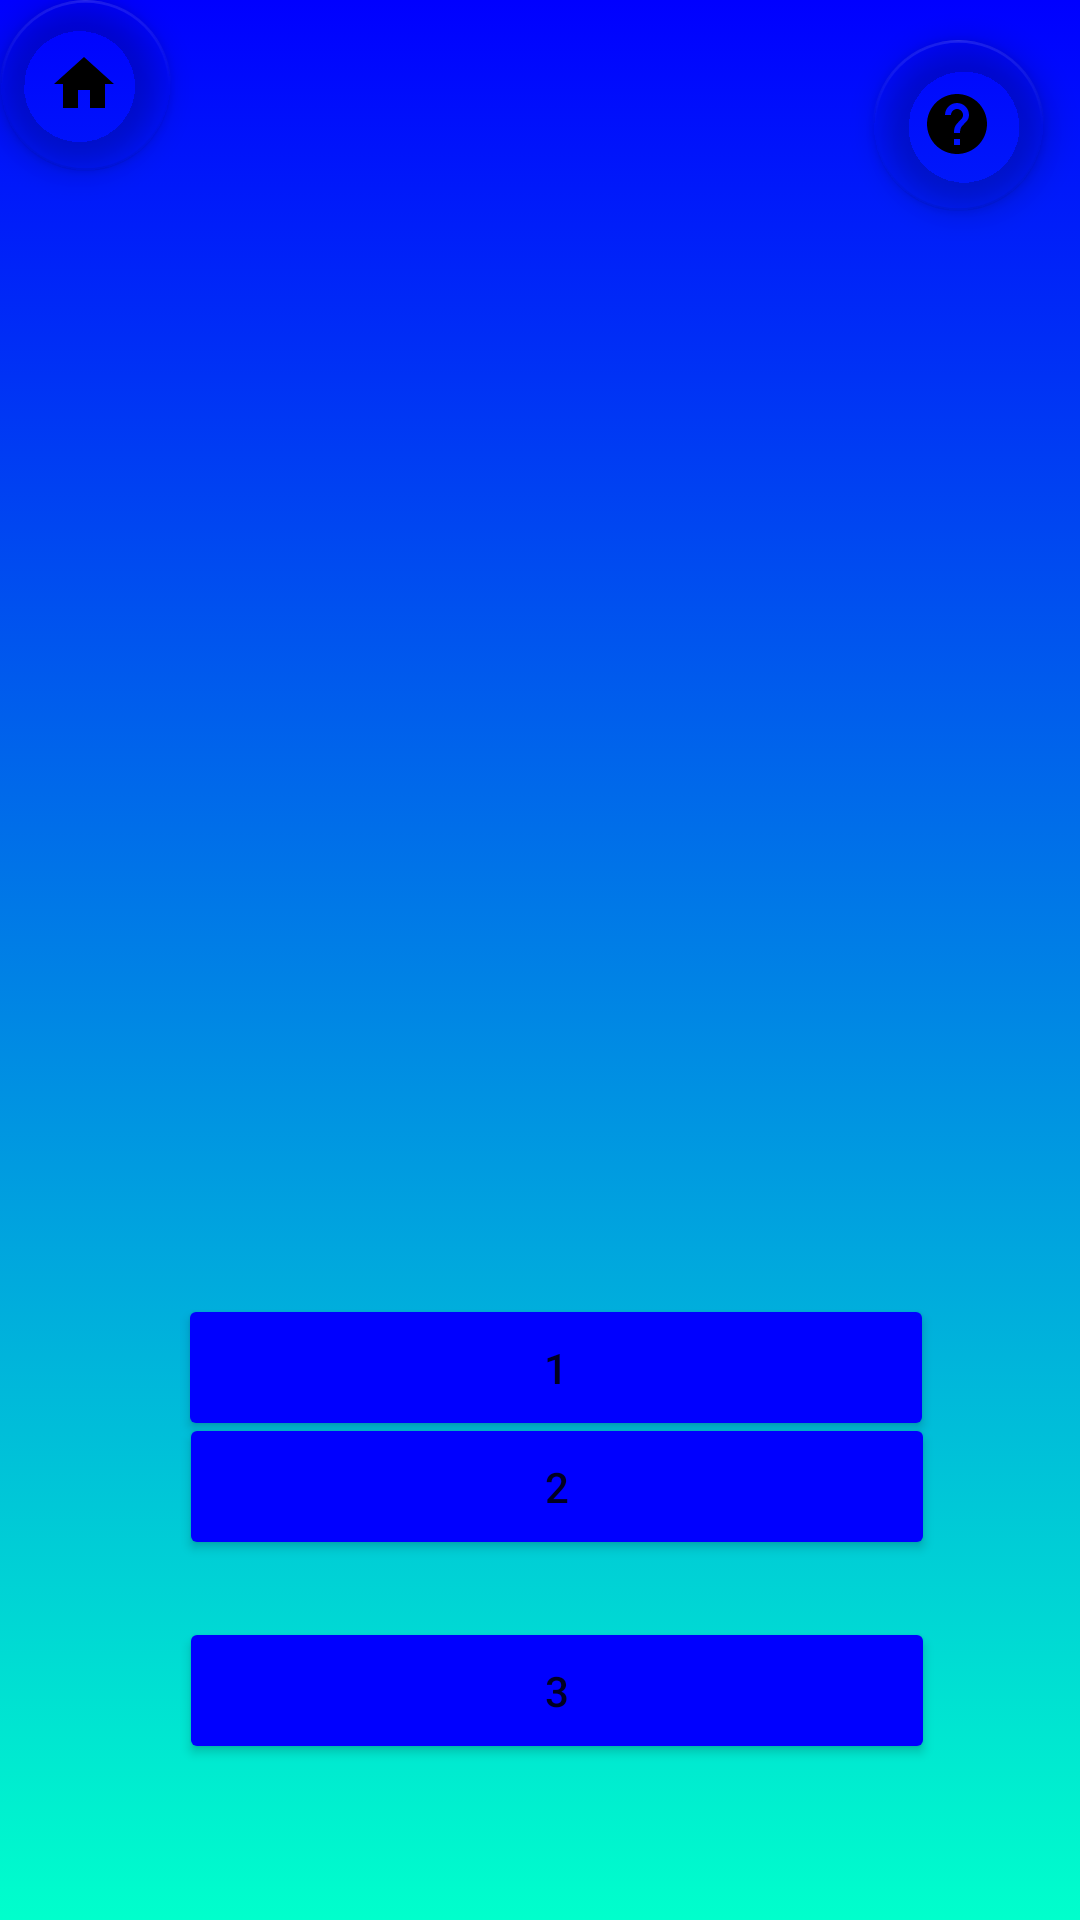

Locate icon controls on the screen. Image size 1080w x 1920h, boxes as bbox=[x1, y1, x2, y2].
help: bbox=[874, 40, 1044, 211]
home: bbox=[0, 0, 171, 171]
